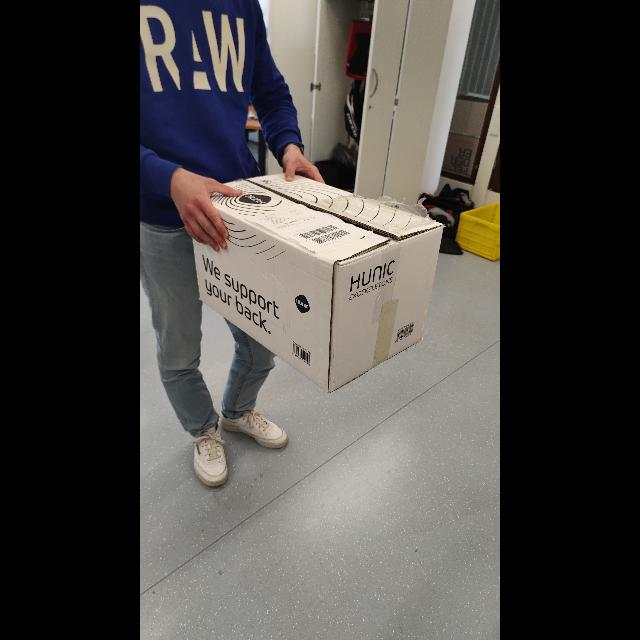cardboard_box: (196, 164, 452, 402)
